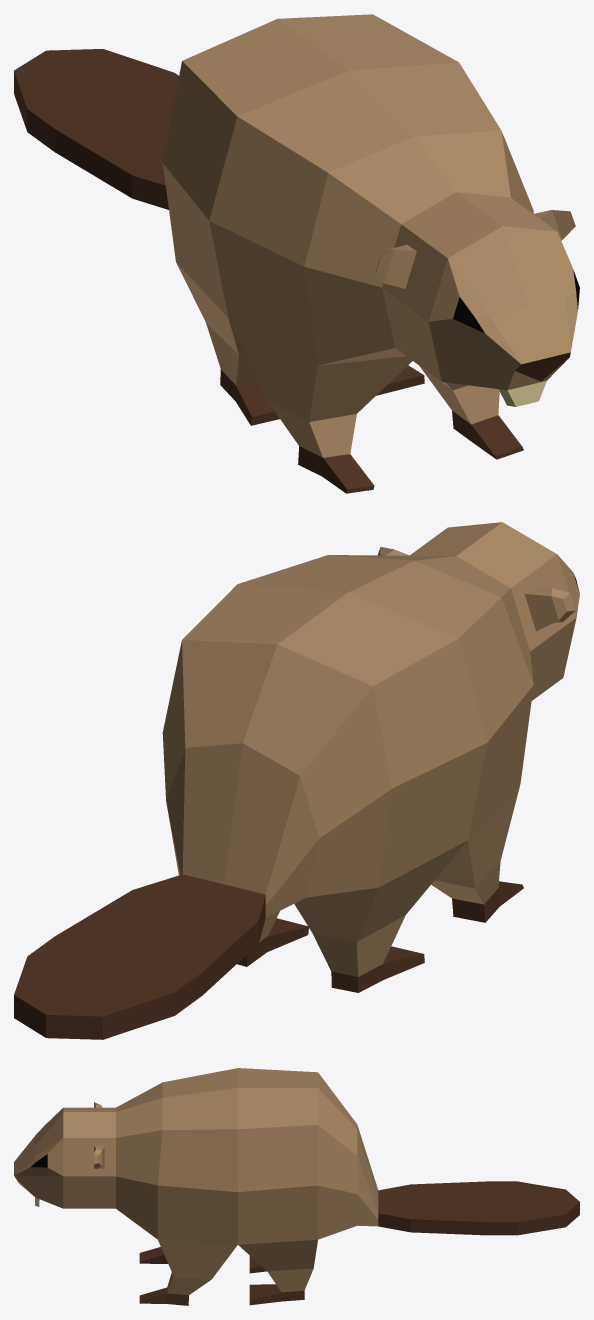
The model's file is beaver.fbx.
3 renders of one model, top to bottom at view 1: azimuth 30°, elevation 25°; view 2: azimuth 150°, elevation 25°; view 3: azimuth 270°, elevation 25°, orthographic. The views are drawn at different scales.
Visible parts, largest first — view 1: Cube.001; view 2: Cube.001; view 3: Cube.001.
Boxes of the visible parts, x1,y1,x2,y2 form: Cube.001: [14, 14, 579, 493]; Cube.001: [14, 522, 579, 1039]; Cube.001: [14, 1068, 579, 1305].
Bounding box in the file's own units: 243 × 285 × 755.
